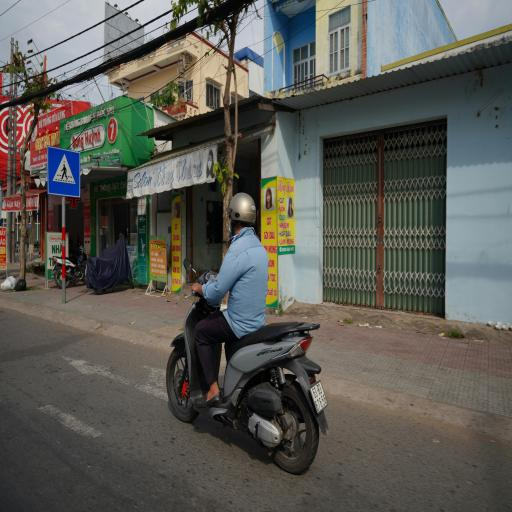place: (310, 386, 332, 412)
